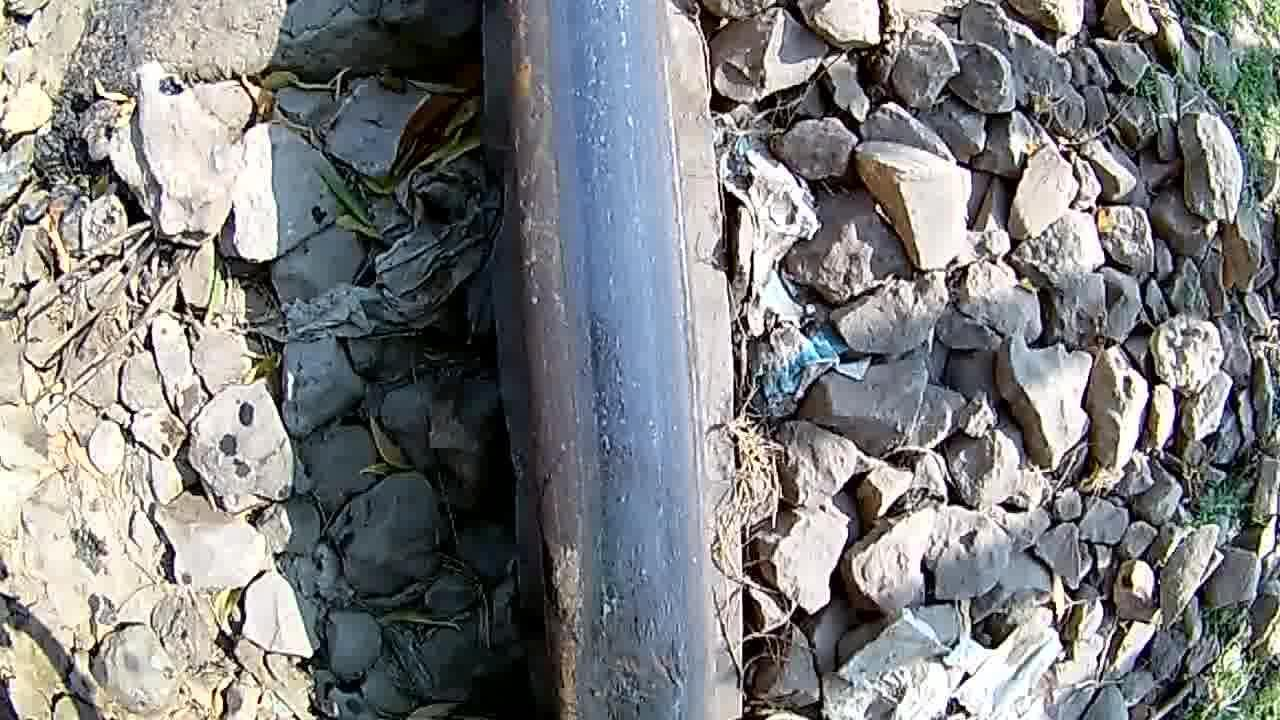crack: (560, 483, 704, 720)
